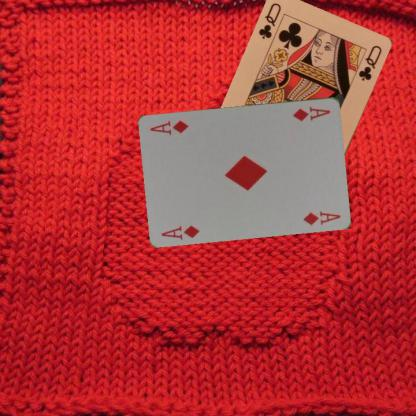Ad: (290, 103, 332, 122), (158, 222, 201, 240)
Qc: (256, 1, 282, 41)
